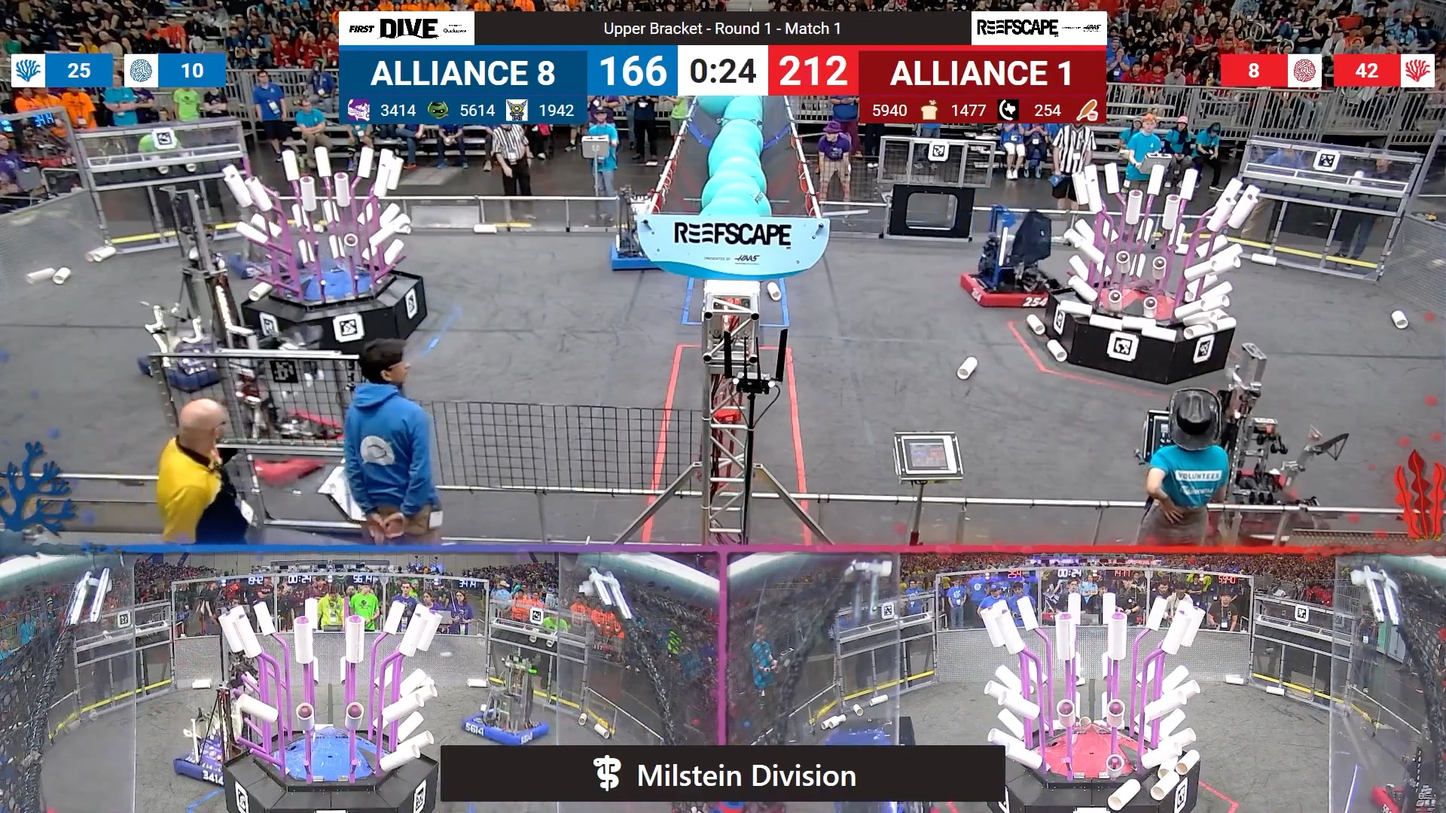bumpers: (213, 413, 353, 486), (137, 339, 273, 393), (957, 269, 1062, 316), (454, 707, 558, 747), (169, 737, 251, 785), (604, 235, 674, 275), (1373, 776, 1446, 813)
